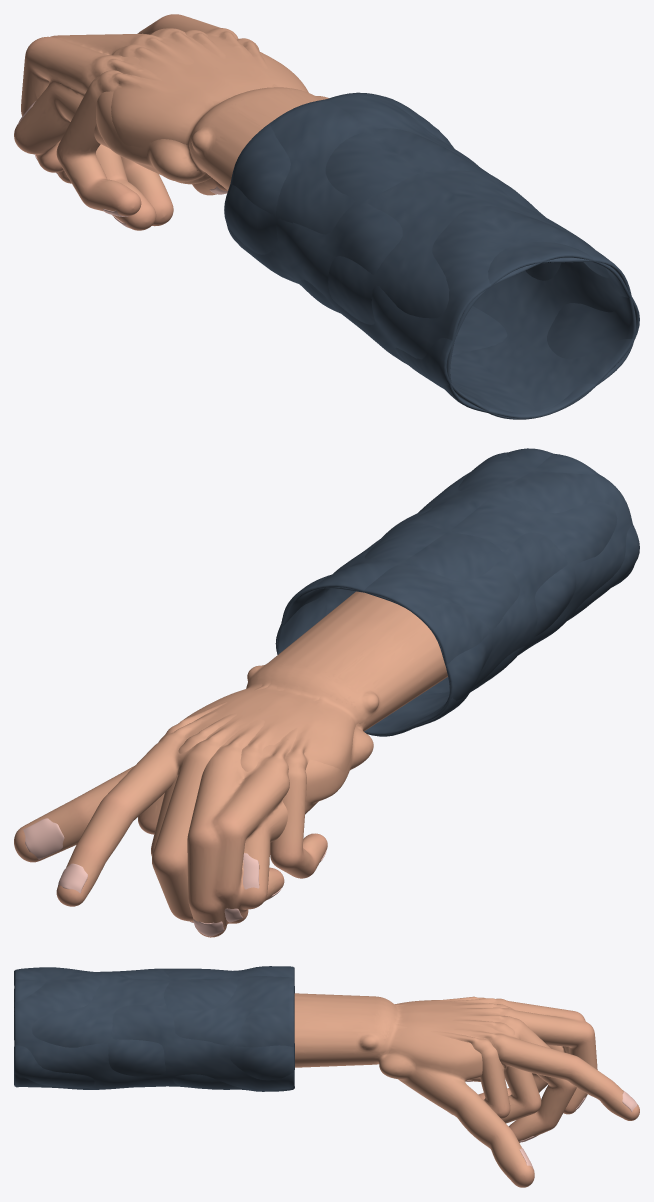
Rendered from hands.glb.
3 renders of one model, top to bottom at view 1: azimuth 30°, elevation 25°; view 2: azimuth 150°, elevation 25°; view 3: azimuth 270°, elevation 25°, orthographic. The views are drawn at different scales.
Parts seen in each view (by area): view 1: sleeve_R, sleeve_L, hand_L, hand_R; view 2: hand_L, sleeve_R, sleeve_L, hand_R, nails_L, nails_R; view 3: hand_L, sleeve_L, sleeve_R, hand_R, nails_L.
Part boxes in pixels (bbox=[...]): sleeve_R: bbox=[226, 92, 639, 418]; sleeve_L: bbox=[224, 96, 636, 419]; hand_L: bbox=[56, 14, 328, 230]; hand_R: bbox=[14, 30, 322, 195]; hand_L: bbox=[14, 591, 447, 921]; sleeve_R: bbox=[275, 448, 634, 734]; sleeve_L: bbox=[277, 452, 639, 736]; hand_R: bbox=[138, 592, 443, 937]; nails_L: bbox=[23, 818, 326, 922]; nails_R: bbox=[193, 853, 259, 936]; hand_L: bbox=[294, 993, 639, 1187]; sleeve_L: bbox=[14, 966, 294, 1090]; sleeve_R: bbox=[14, 967, 294, 1091]; hand_R: bbox=[294, 993, 597, 1123]; nails_L: bbox=[466, 1080, 637, 1170].
Size of the model in its own units: 144 by 109 by 374.
